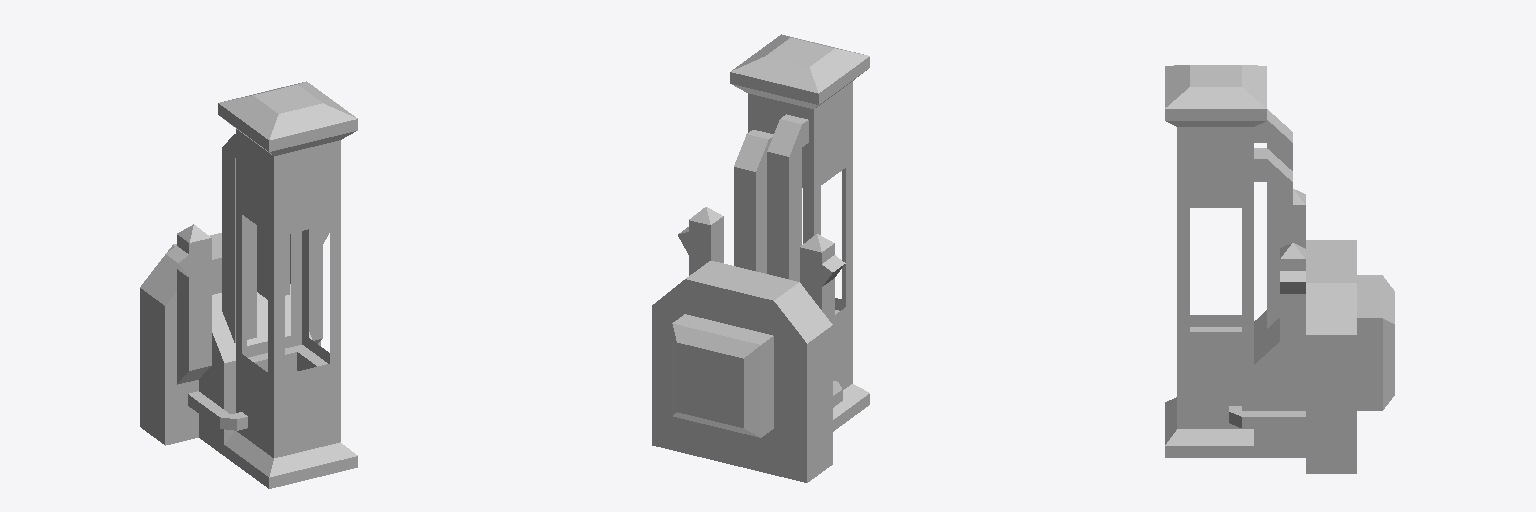
The model's file is actuator_water_inventory.obj.
3 views of the same model, side by side, from view 1: azimuth 30°, elevation 25°; view 2: azimuth 150°, elevation 25°; view 3: azimuth 270°, elevation 25° (orthographic).
Parts seen in each view (by area): view 1: DELUGE_PURIFIER_BODY_Cube.028, DELUGE_PURIFIER_STEAMVENTS_Cube.032; view 2: DELUGE_PURIFIER_BODY_Cube.028, DELUGE_PURIFIER_STEAMVENTS_Cube.032; view 3: DELUGE_PURIFIER_BODY_Cube.028, DELUGE_PURIFIER_STEAMVENTS_Cube.032.
Boxes of the visible parts, box(x1,y1,x2,y2) form: DELUGE_PURIFIER_BODY_Cube.028: box(140, 81, 357, 488); DELUGE_PURIFIER_STEAMVENTS_Cube.032: box(166, 224, 329, 384); DELUGE_PURIFIER_BODY_Cube.028: box(652, 34, 869, 482); DELUGE_PURIFIER_STEAMVENTS_Cube.032: box(678, 207, 845, 373); DELUGE_PURIFIER_BODY_Cube.028: box(1165, 65, 1394, 473); DELUGE_PURIFIER_STEAMVENTS_Cube.032: box(1280, 189, 1305, 409).
Bounding box in the file's own units: 0.875 × 1.94 × 1.12.